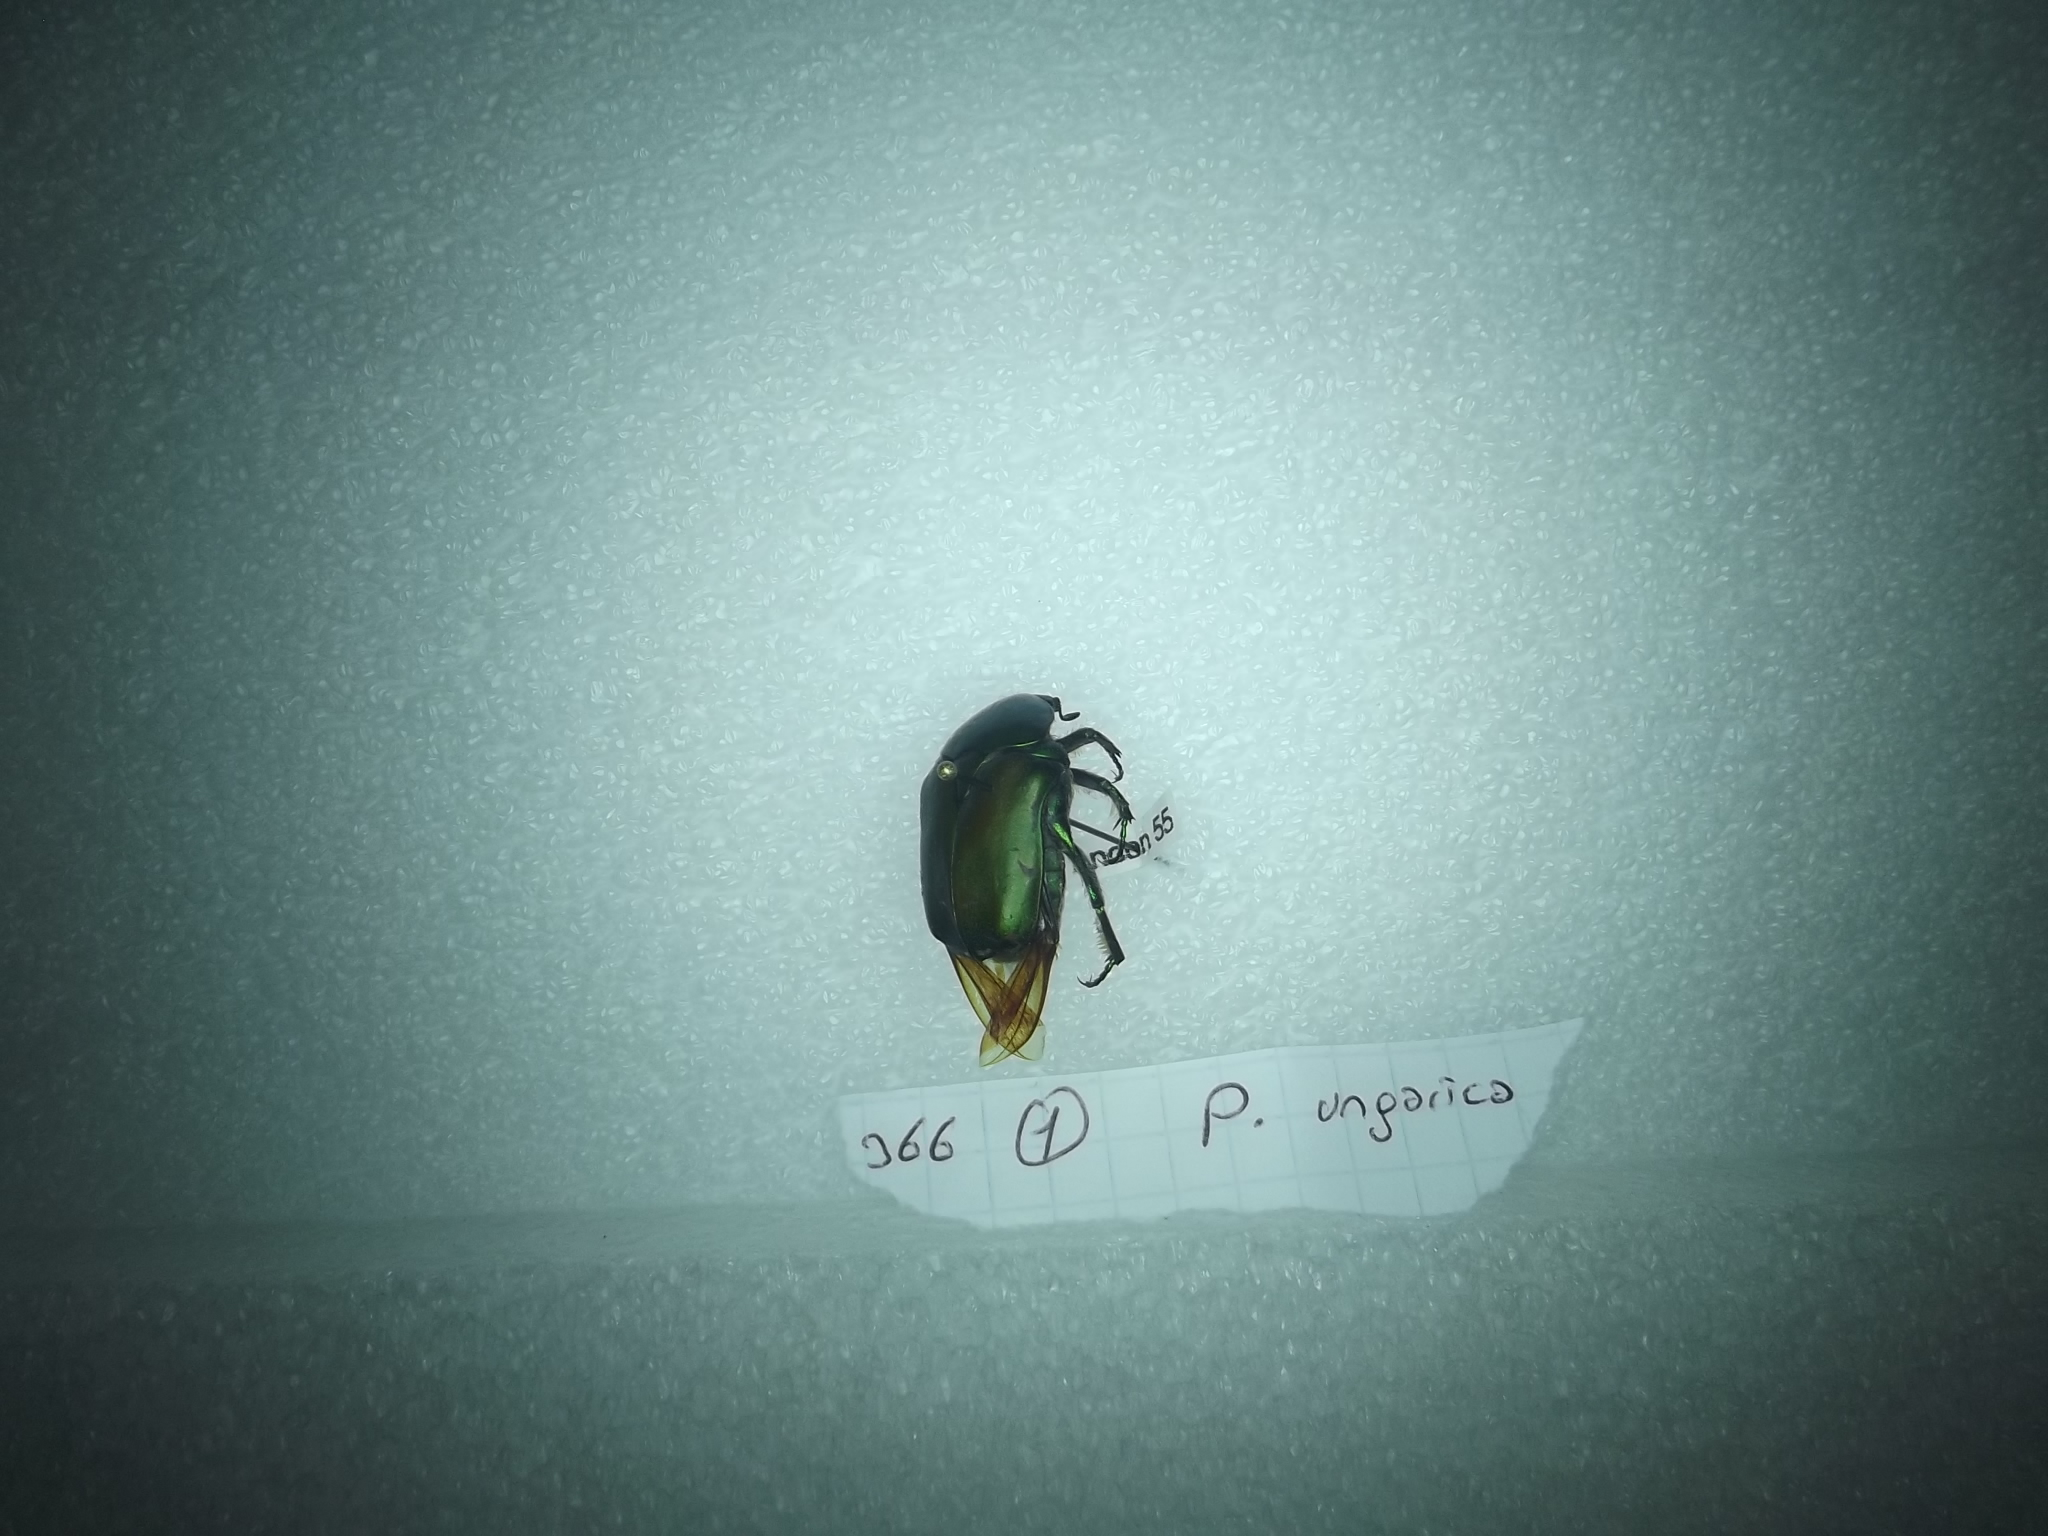Protaetia_ungarica_americana: (905, 666, 1147, 1075)
